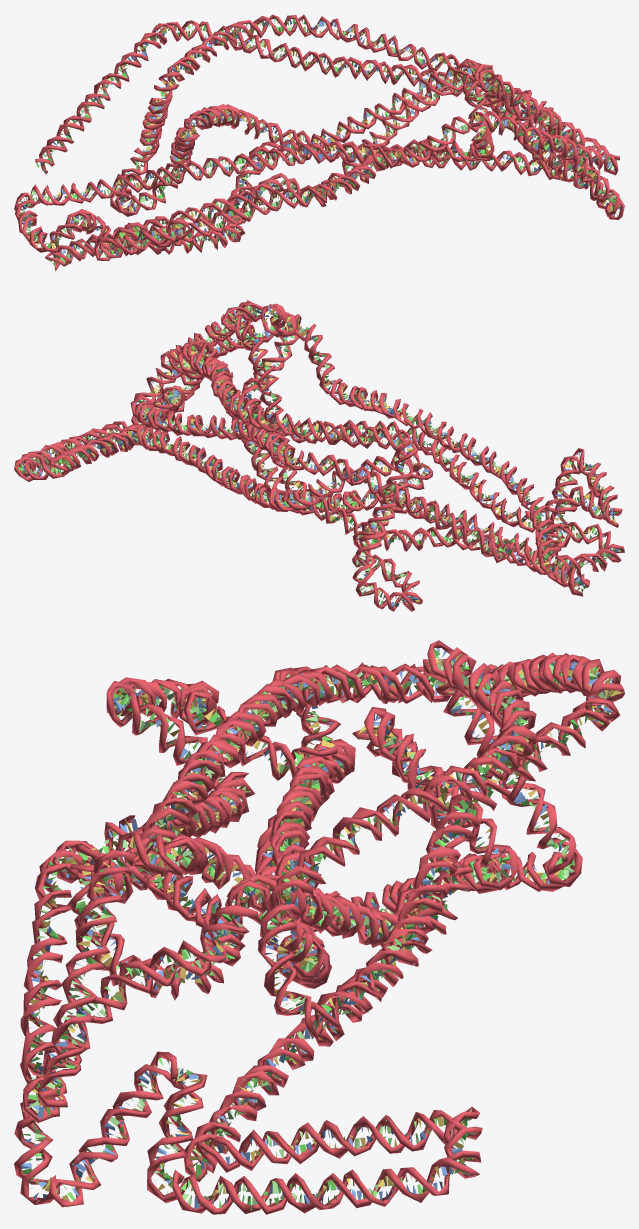
Rendered from bigdnaseq.fbx.
The picture shows the model from 3 angles, top to bottom: view 1: azimuth 30°, elevation 25°; view 2: azimuth 150°, elevation 25°; view 3: azimuth 270°, elevation 25°; orthographic projection. The views are drawn at different scales.
Parts seen in each view (by area): view 1: BezierCurve.004; view 2: BezierCurve.004; view 3: BezierCurve.004.
Boxes of the visible parts, bbox=[...] form: BezierCurve.004: bbox=[14, 14, 624, 271]; BezierCurve.004: bbox=[14, 300, 624, 611]; BezierCurve.004: bbox=[14, 640, 624, 1214].
Size of the model in its own units: 7049 by 1983 by 3784.
